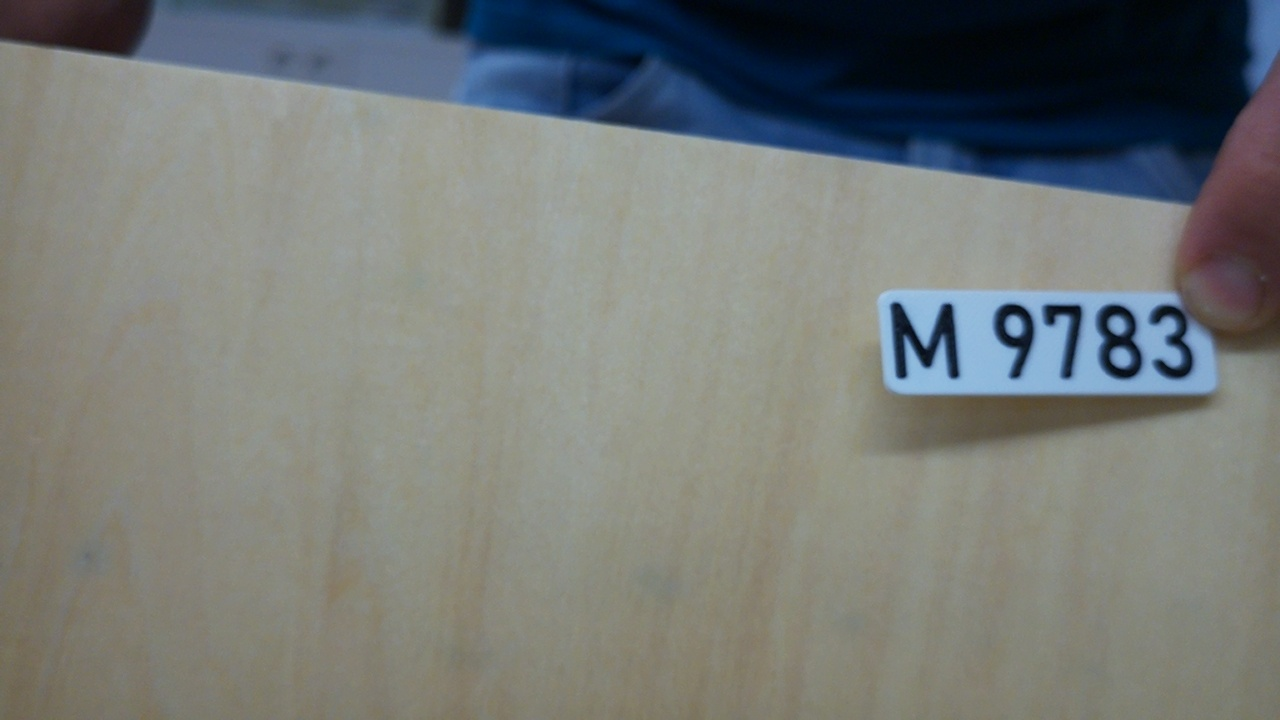license_plate: (875, 279, 1222, 397)
